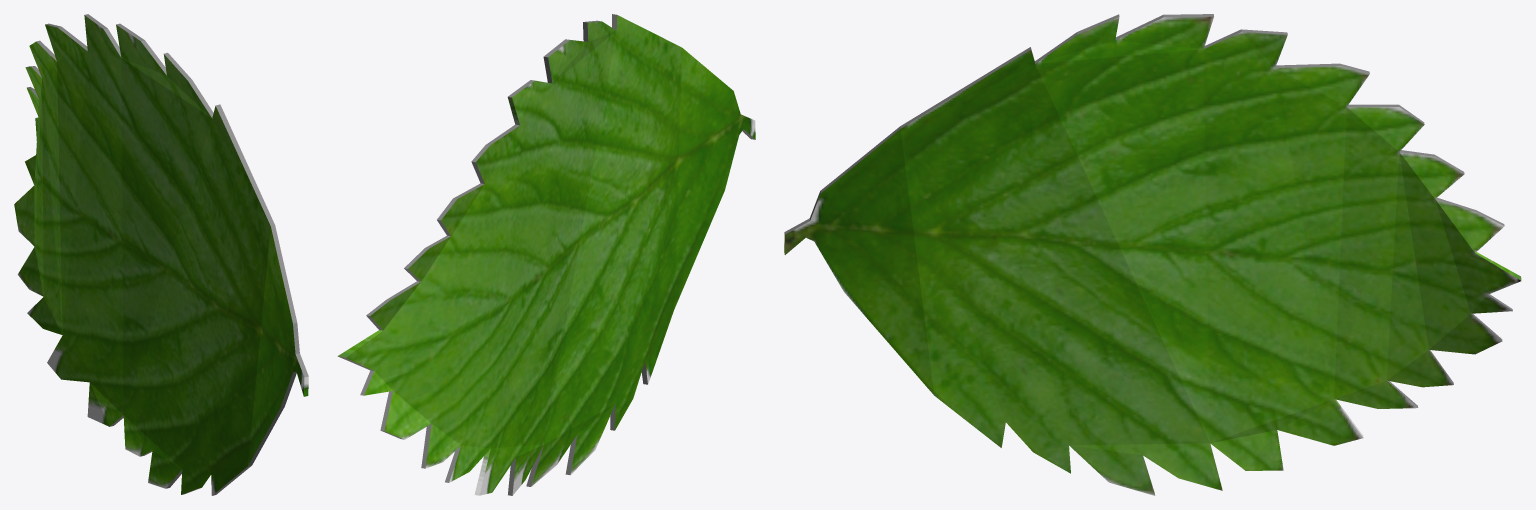
Rendered from strawberry_leaf1.dae.
3 views of the same model, side by side, from view 1: azimuth 30°, elevation 25°; view 2: azimuth 150°, elevation 25°; view 3: azimuth 270°, elevation 25° (orthographic). The views are drawn at different scales.
Parts seen in each view (by area): view 1: leaf_mesh; view 2: leaf_mesh; view 3: leaf_mesh.
Part boxes in pixels (x1,y1,x2,y2): leaf_mesh: (14, 14, 308, 495); leaf_mesh: (337, 14, 755, 495); leaf_mesh: (784, 14, 1521, 495).
Bounding box in the file's own units: 0.0195 × 0.1447 × 0.1037.
Materials: 1 (1 with a texture image).
